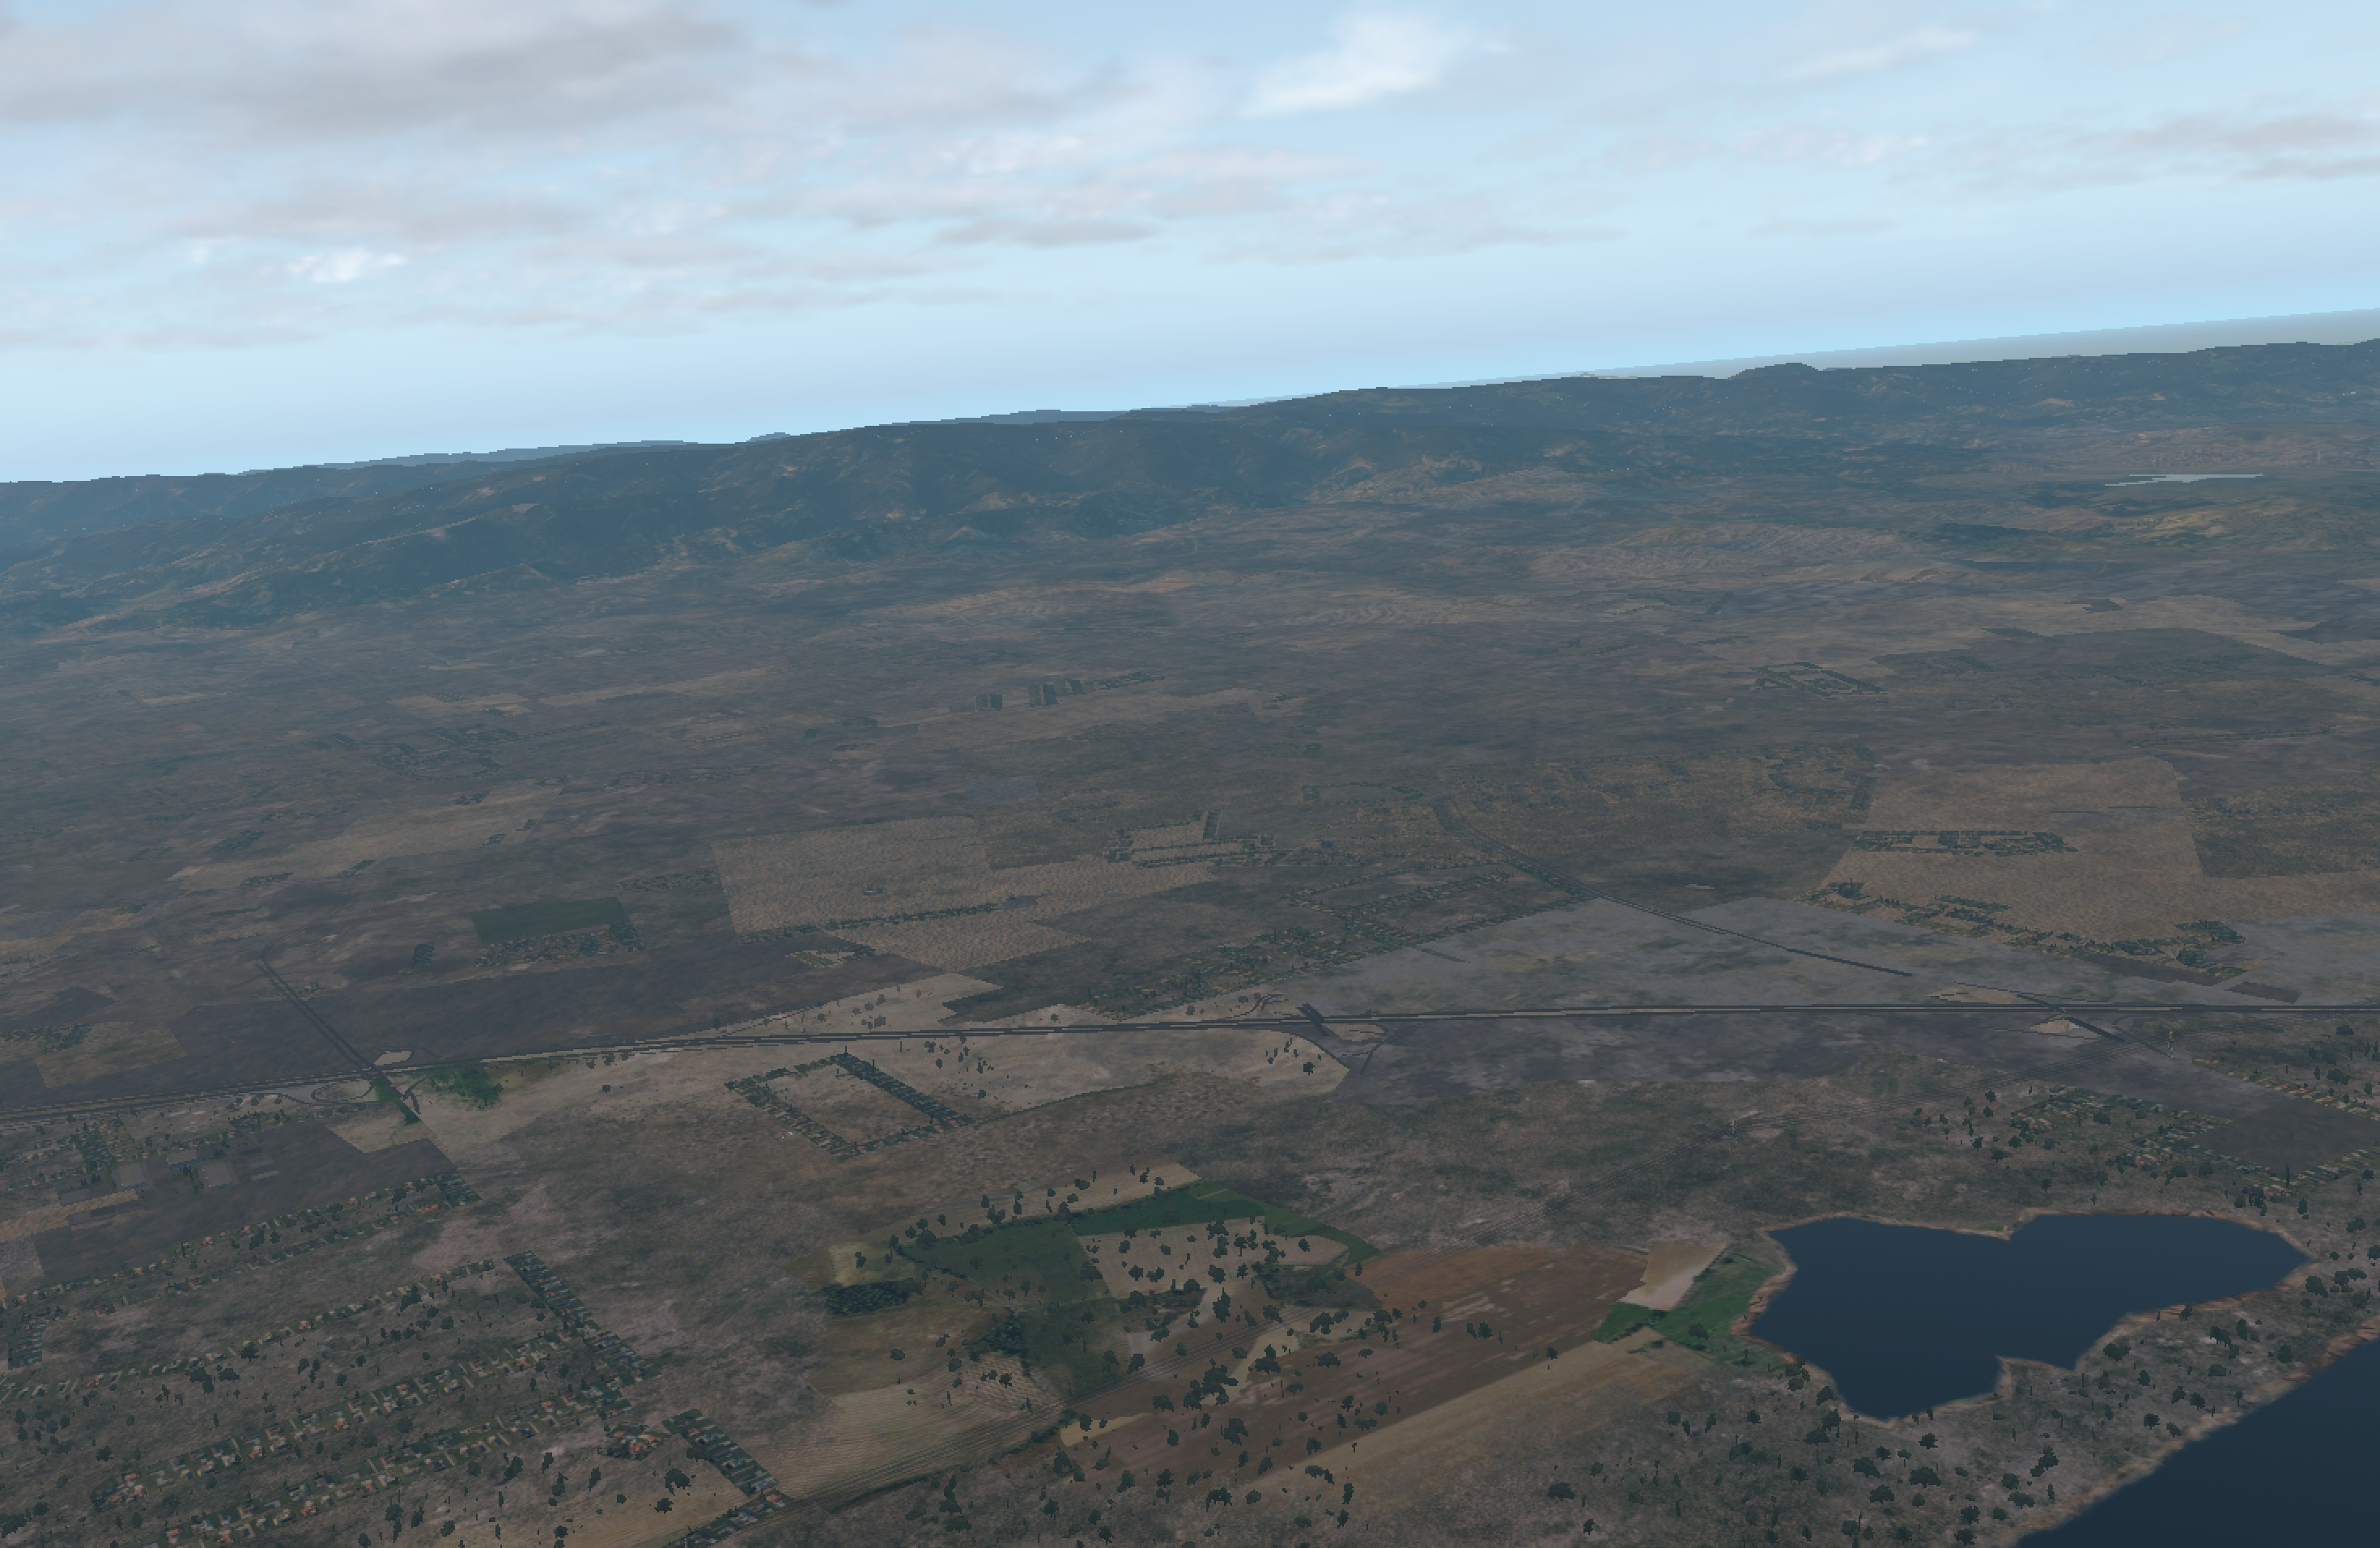aircraft: (784, 1131, 800, 1137)
